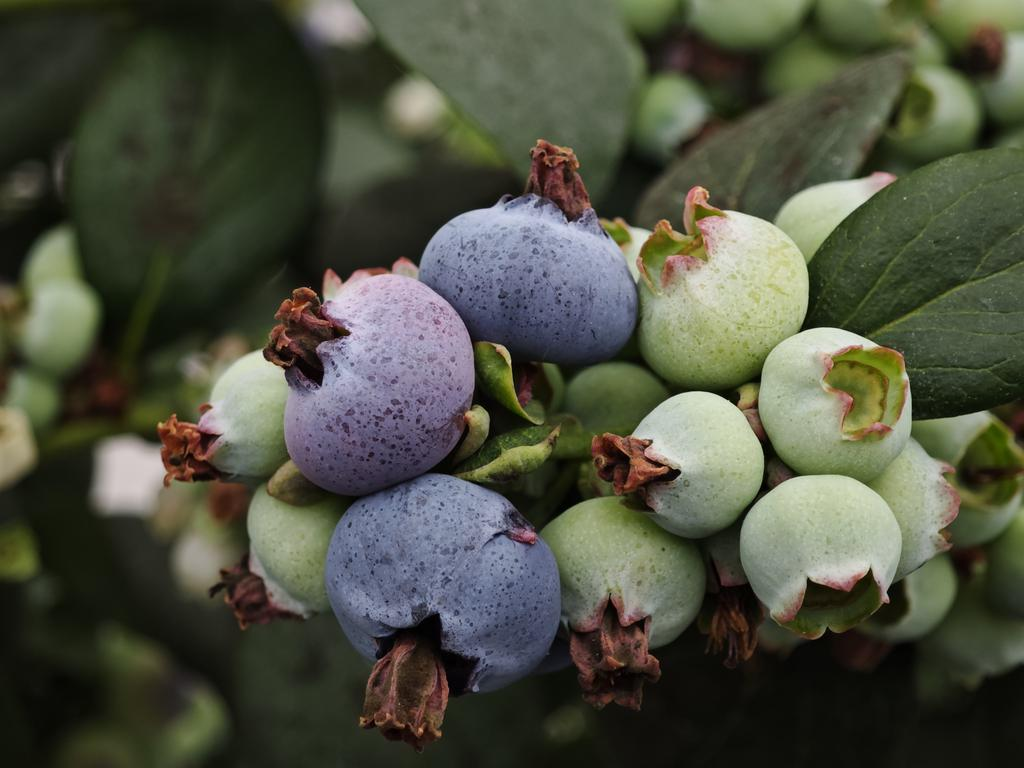RipeBlueBerry: (323, 469, 565, 712), (418, 177, 640, 367)
Semi-RipeBlueBerry: (259, 269, 477, 499)
UnripeBlueBerry: (633, 190, 814, 391)
